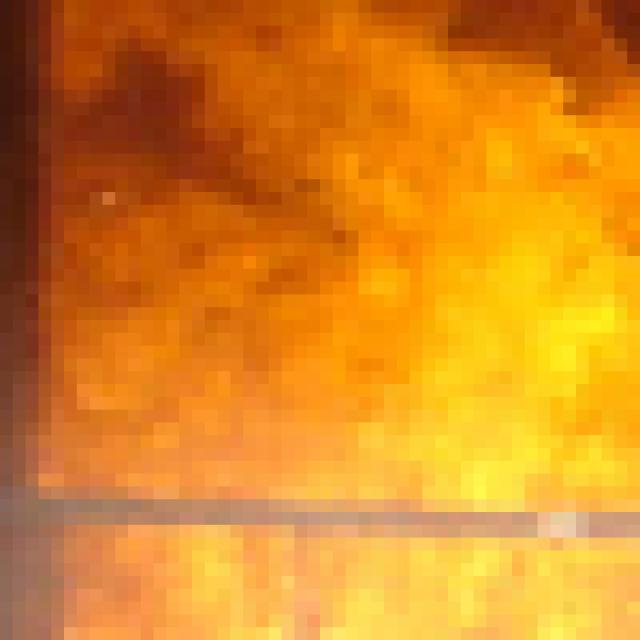fire: (44, 11, 640, 640)
